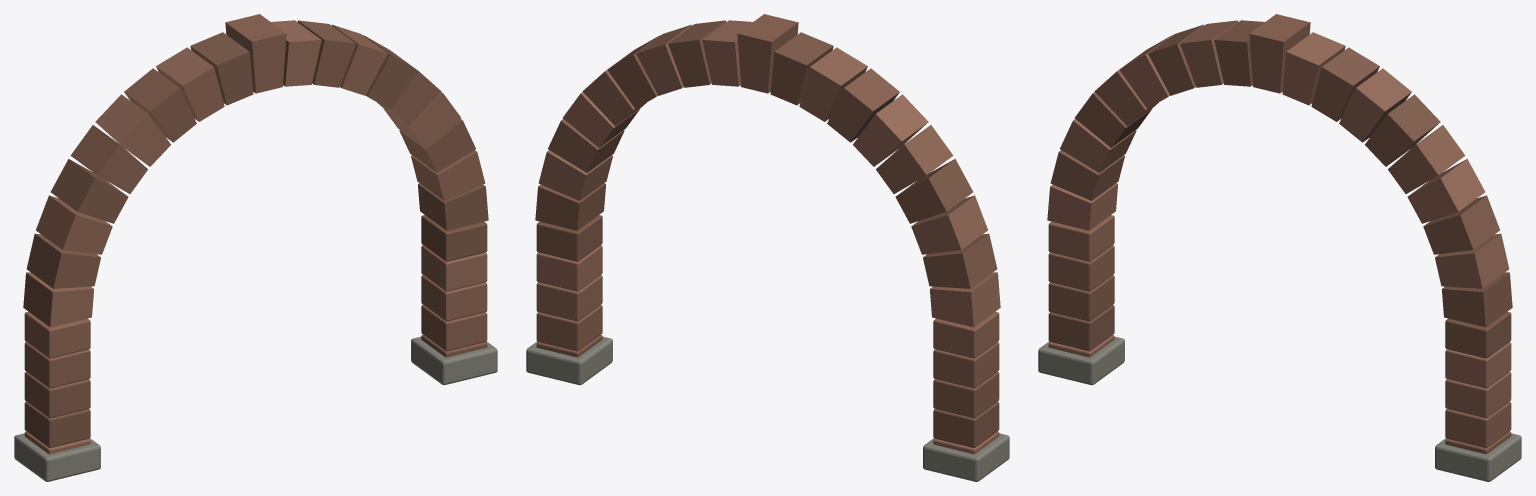
File: CasemateArch.fbx
The picture shows the model from 3 angles, left to right: view 1: azimuth 30°, elevation 25°; view 2: azimuth 150°, elevation 25°; view 3: azimuth 330°, elevation 25°; orthographic projection.
Parts seen in each view (by area): view 1: CasemateArch; view 2: CasemateArch; view 3: CasemateArch.
Boxes of the visible parts, x1=… form: CasemateArch: x1=14, y1=14, x2=497, y2=481; CasemateArch: x1=526, y1=14, x2=1009, y2=481; CasemateArch: x1=1038, y1=14, x2=1521, y2=481.
Bounding box in the file's own units: 2.92 × 2.39 × 0.37.
